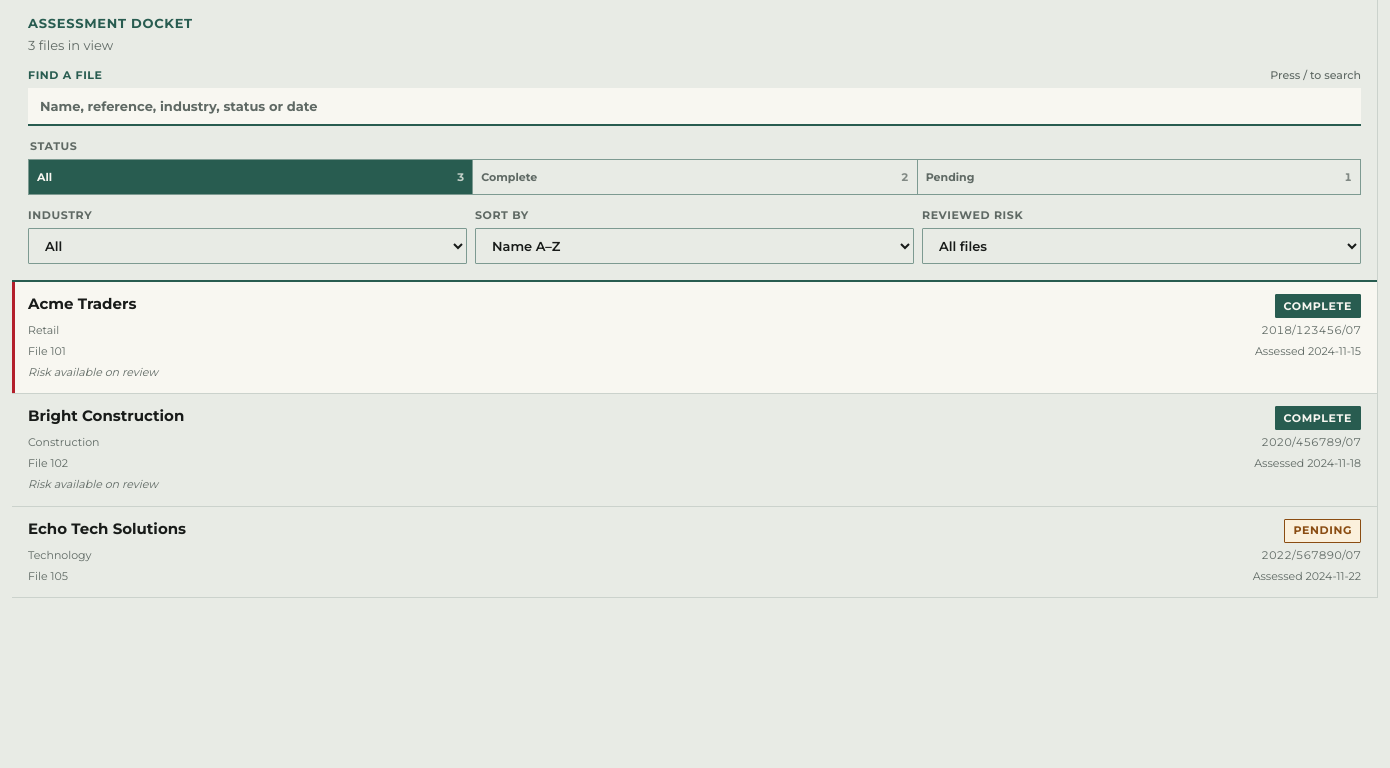
Scenario: Docket › clears the composed control state in one action
Click the button with aria-label "Pending: 1".
click(950, 177)  # box left=917, top=159, right=1361, bottom=195
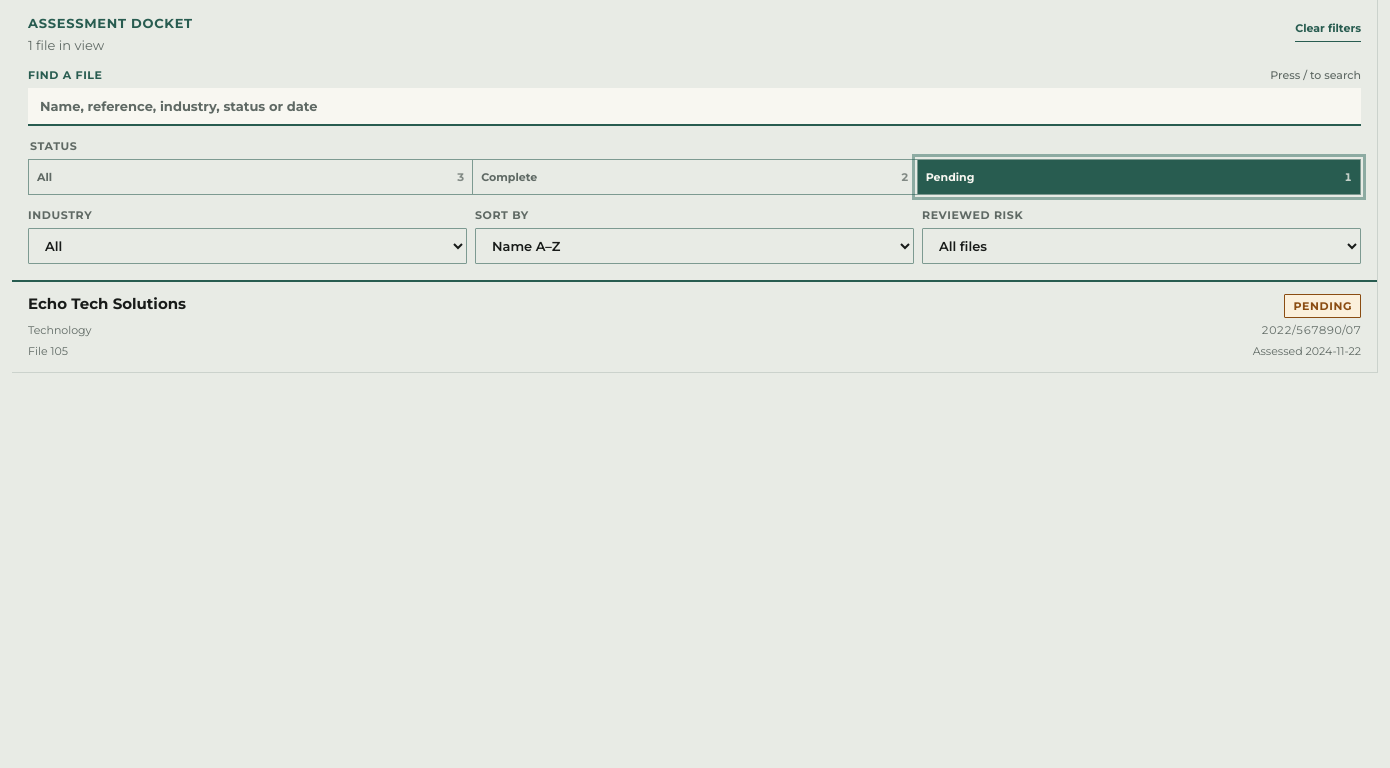
Select "Technology" in the dropdown labelled "Industry" at (248, 246), box left=28, top=228, right=467, bottom=264
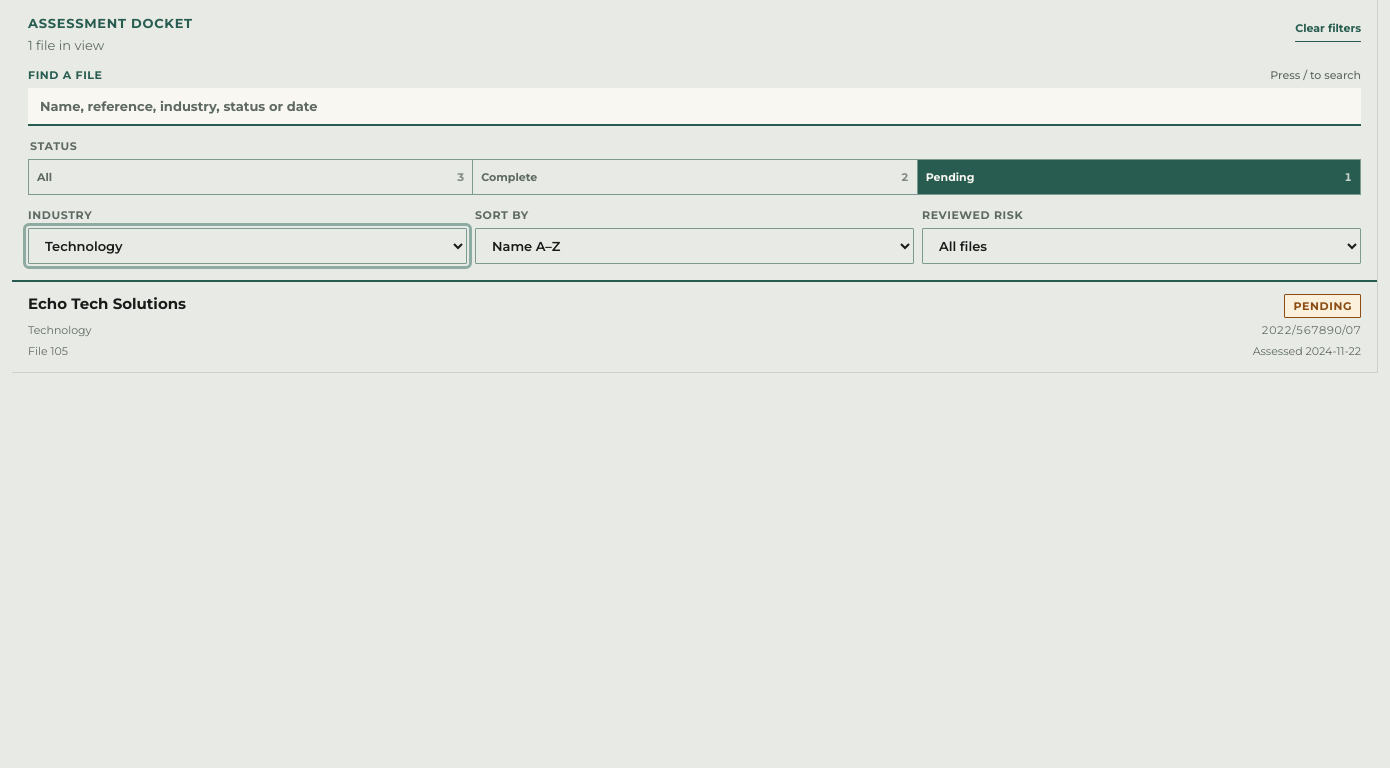
Check: the text "1 file in view" is shown, box left=28, top=37, right=104, bottom=53
Click the button "Clear filters".
click(1328, 29)  # box left=1295, top=16, right=1361, bottom=42
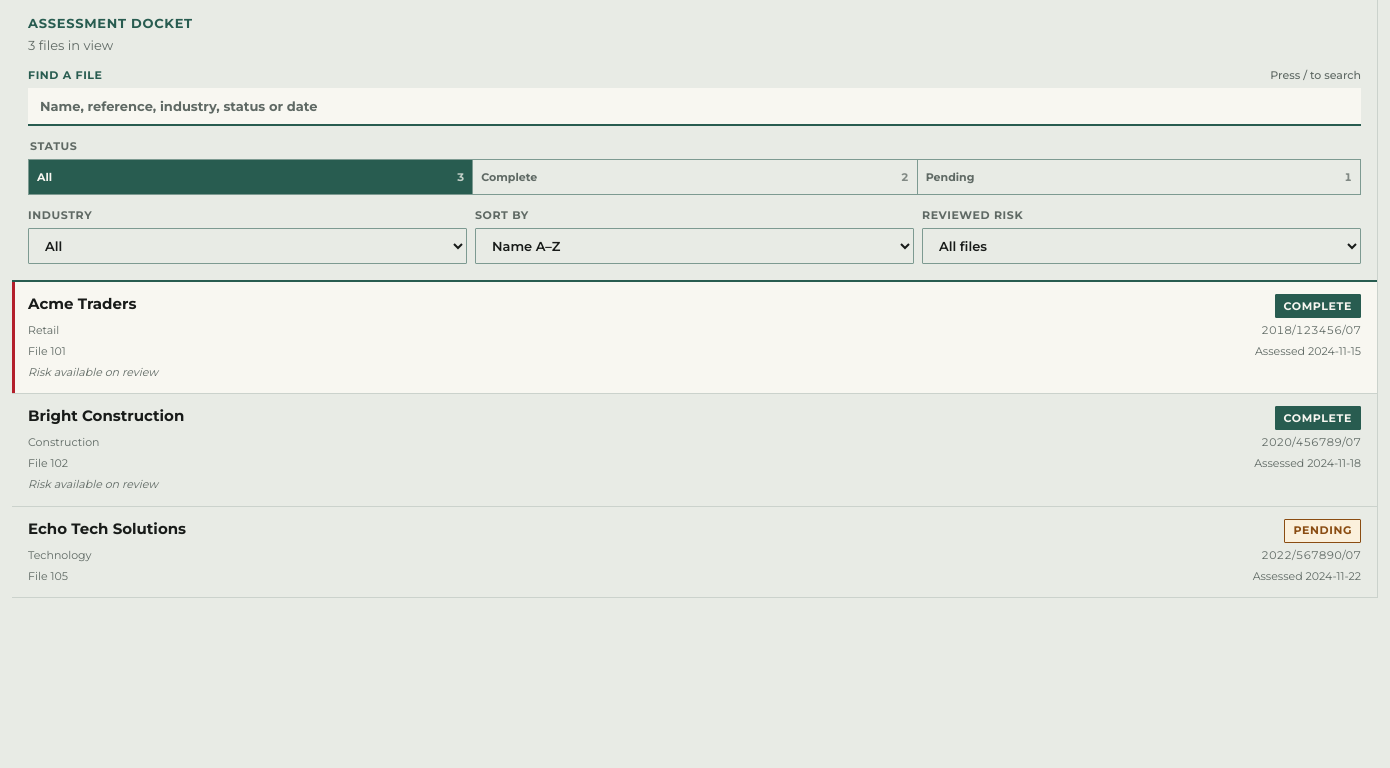
Check: the text "3 files in view" is shown, box left=28, top=37, right=113, bottom=53
